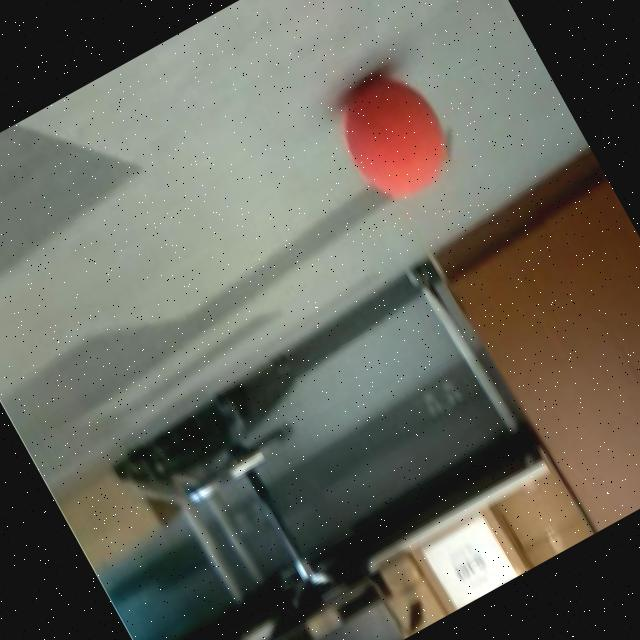ping-pong-ball: (320, 58, 462, 214)
